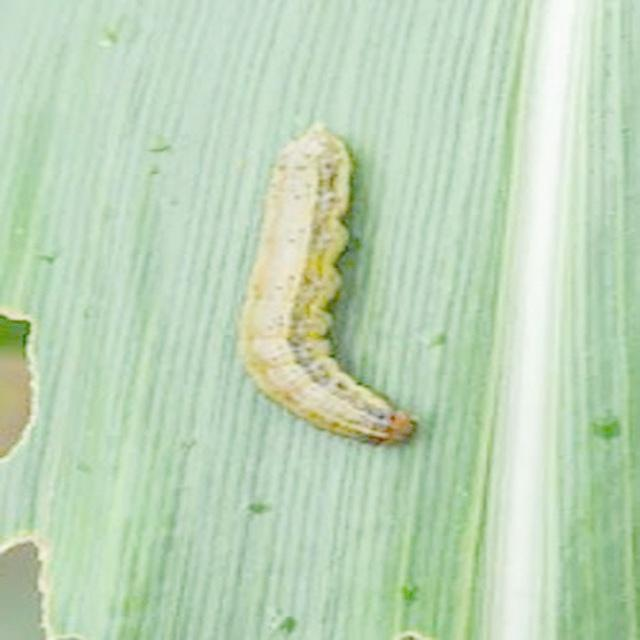gusano_cogollero: (238, 119, 422, 448)
